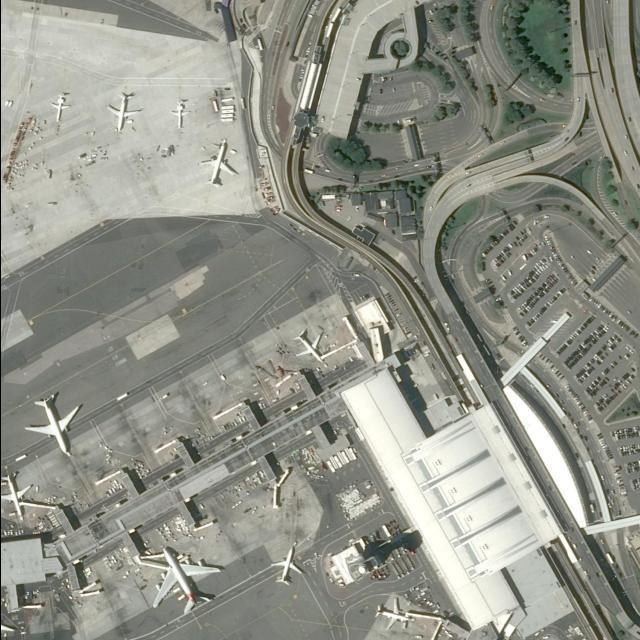Aircraft: (149, 540, 221, 615), (24, 389, 82, 454), (0, 470, 34, 520), (202, 140, 237, 185), (270, 543, 304, 587), (108, 90, 140, 130), (374, 595, 409, 630), (293, 327, 324, 363), (49, 90, 73, 124), (171, 96, 190, 129), (0, 601, 16, 640)
